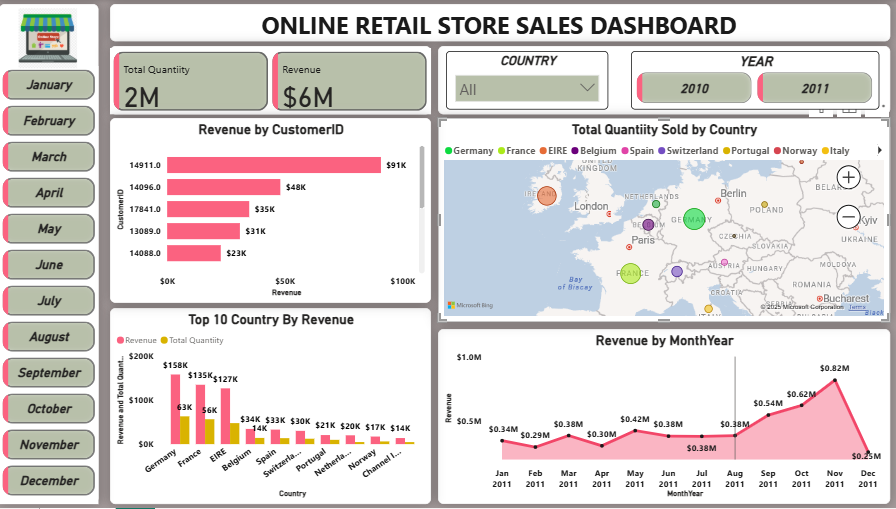

The dashboard page shown, as its layout file describes it:
{"tool":"powerbi","page":{"name":"Page 1","canvas":[1280,720],"ordinal":0},"visuals":[{"type":"shape","box":[164.5,5.7,1105.5,52.9],"z":0},{"type":"shape","box":[629.3,65.8,640.7,97.3],"z":1000},{"type":"lineChart","fields":{"Y":["Sheet1.Revenue"],"Category":["Date Table.MonthYear"]},"box":[629.3,466.3,640.6,248],"z":2000},{"type":"clusteredColumnChart","title":"Top 10 Country By Revenue","fields":{"Category":["Sheet1.Country"],"Y":["Sheet1.Revenue","Sheet1.Total Quantiity"]},"box":[164.2,436.3,455,277.9],"z":3000},{"type":"map","title":"Total Quantiity Sold by Country","fields":{"Category":["Sheet1.Country"],"Size":["Sheet1.Total Quantiity"],"Series":["Sheet1.Country"]},"box":[629.3,167.2,640.6,289.1],"z":4000},{"type":"shape","box":[7.2,5.8,141.1,708.5],"z":5000},{"type":"shape","box":[164.5,65.8,454.8,97.3],"z":6000},{"type":"cardVisual","fields":{"Data":["Sheet1.Total Quantiity","Sheet1.Revenue"]},"box":[164.5,68.6,454.8,94.4],"z":7000},{"type":"advancedSlicerVisual","title":"YEAR","fields":{"Values":["Date Table.year"]},"box":[902.4,72.9,351.8,82.9],"z":8000},{"type":"advancedSlicerVisual","fields":{"Values":["Date Table.Month name"]},"box":[7.2,93.6,141.1,620.6],"z":9000},{"type":"slicer","title":"COUNTRY","fields":{"Values":["Sheet1.Country"]},"box":[640.7,72.9,230.3,82.9],"z":10000},{"type":"image","box":[30,5.7,93,97.3],"z":11000},{"type":"barChart","fields":{"Category":["Sheet1.CustomerID"],"Y":["Sheet1.Revenue"]},"box":[164.4,167.2,455,262.2],"z":12000}]}

Visuals, with their boxes in screenshot pixels (x1, y1, x2, y2), scaled from the page's 1280x720 canvas onto the 896x509 screenshot:
shape: rect(115, 4, 889, 41)
shape: rect(441, 47, 889, 115)
lineChart - Sheet1.Revenue x Date Table.MonthYear: rect(441, 330, 889, 505)
"Top 10 Country By Revenue" clusteredColumnChart: rect(115, 308, 433, 505)
"Total Quantiity Sold by Country" map: rect(441, 118, 889, 323)
shape: rect(5, 4, 104, 505)
shape: rect(115, 47, 434, 115)
cardVisual - Sheet1.Total Quantiity x Sheet1.Revenue: rect(115, 48, 434, 115)
"YEAR" advancedSlicerVisual: rect(632, 52, 878, 110)
advancedSlicerVisual - Date Table.Month name: rect(5, 66, 104, 505)
"COUNTRY" slicer: rect(448, 52, 610, 110)
image: rect(21, 4, 86, 73)
barChart - Sheet1.CustomerID x Sheet1.Revenue: rect(115, 118, 434, 304)
